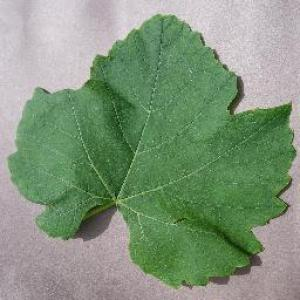Folha: (6, 12, 296, 289)
